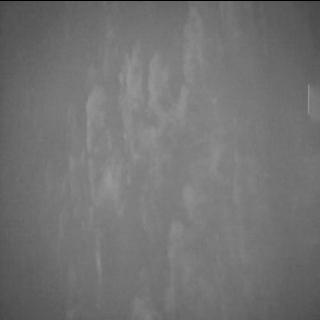Cirrus: (48, 0, 311, 320)
